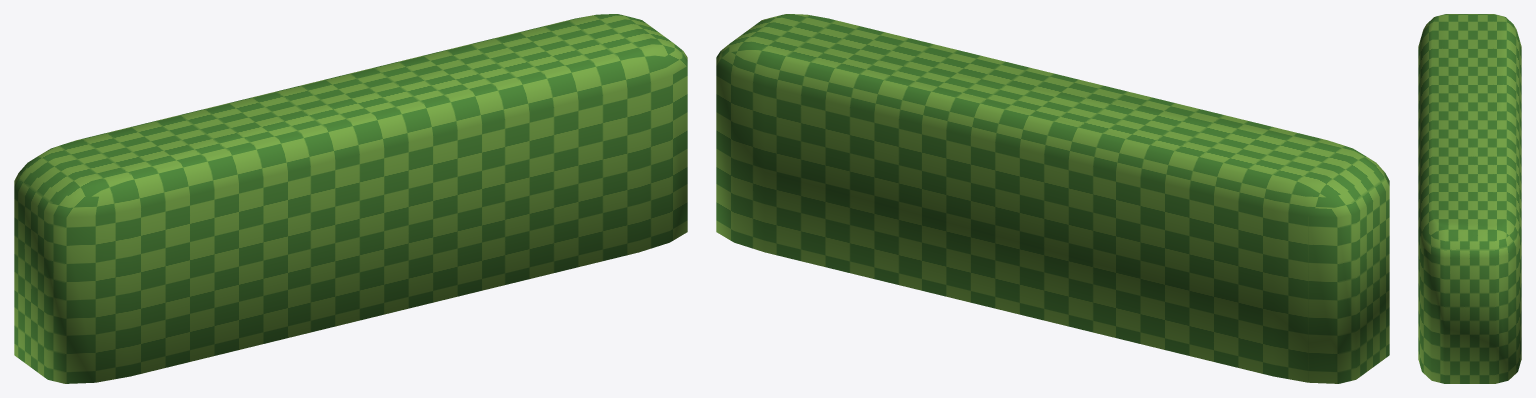
Rendered from SimpleRecGrass.fbx.
3 views of the same model, side by side, from view 1: azimuth 30°, elevation 25°; view 2: azimuth 150°, elevation 25°; view 3: azimuth 270°, elevation 25° (orthographic). The views are drawn at different scales.
Visible parts, largest first — view 1: Cube; view 2: Cube; view 3: Cube.
Boxes of the visible parts, box(x1,y1,x2,y2) form: Cube: box(14, 14, 687, 383); Cube: box(716, 14, 1389, 383); Cube: box(1418, 14, 1521, 383).
Bounding box in the file's own units: 698 × 200 × 129.
1 material, 1 textured.
